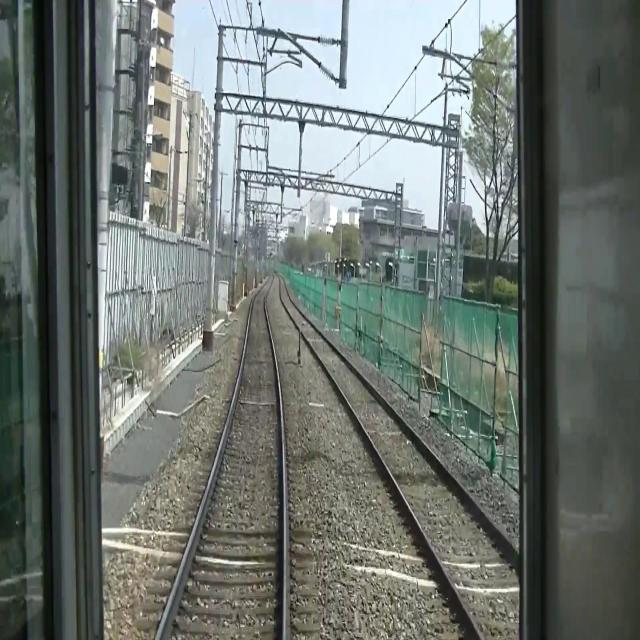rail-track: (279, 276, 516, 639), (174, 275, 282, 639)
